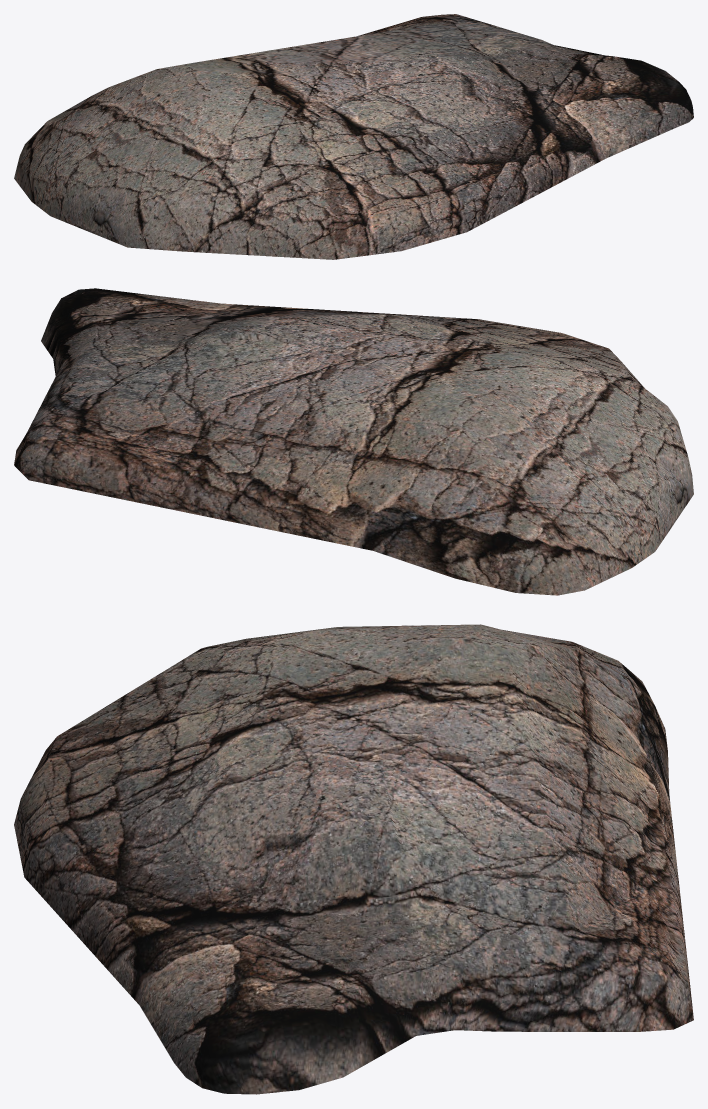
The model's file is Rock 3.fbx.
3 views of the same model, one above another, from view 1: azimuth 30°, elevation 25°; view 2: azimuth 150°, elevation 25°; view 3: azimuth 270°, elevation 25° (orthographic). The views are drawn at different scales.
Parts seen in each view (by area): view 1: Rock 3; view 2: Rock 3; view 3: Rock 3.
Part boxes in pixels (x1,y1,x2,y2): Rock 3: (14,14,693,259); Rock 3: (14,288,693,595); Rock 3: (14,624,693,1094).
Bounding box in the file's own units: 466 × 80.75 × 307.
